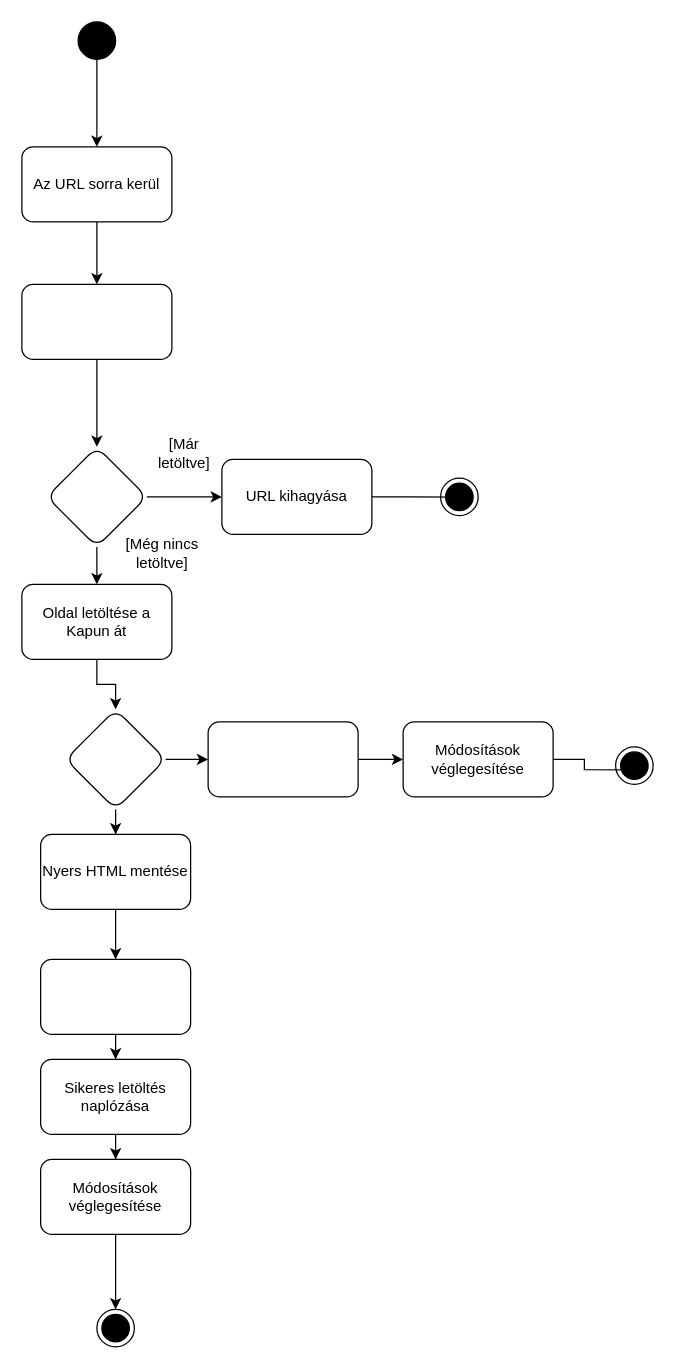
Some shapes in this 676 by 1369 pixel diagram are drawn without their labels. Here are the shapes that lost their labels. From the top down, the centre of each, then its label:
point (96, 321): Napló ellenőrzése
point (282, 759): Hiba naplózása
point (115, 996): Dokumentum mentése az adatbázisba
